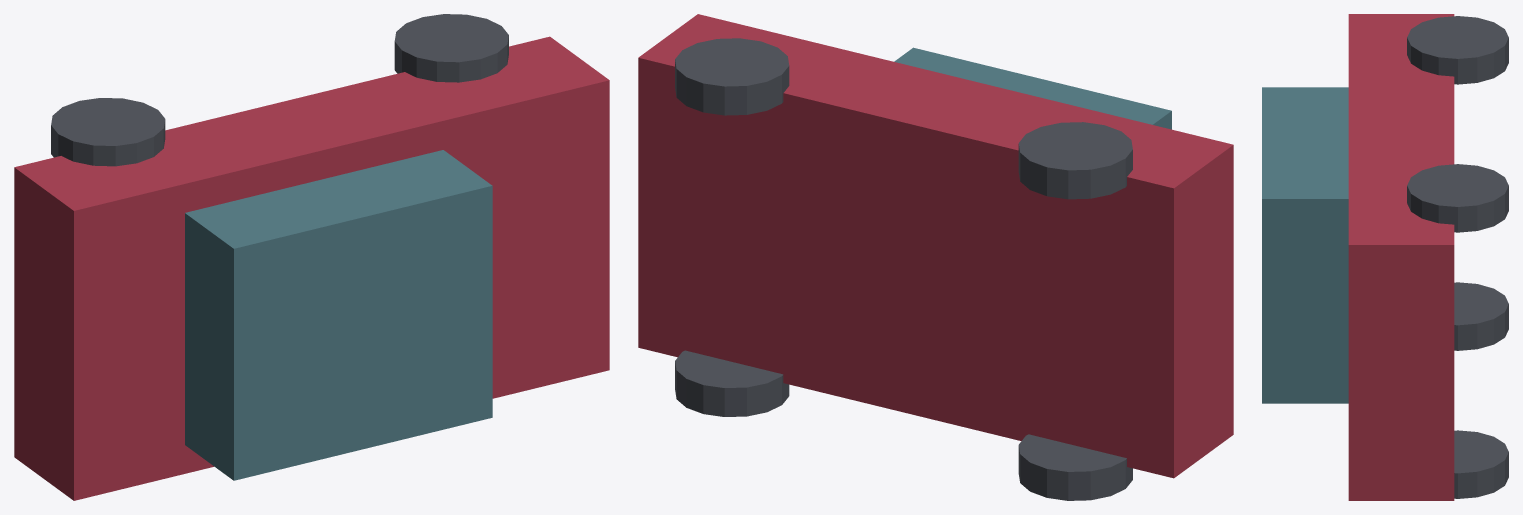
Rendered from car_prop_v01.glb.
3 renders of one model, left to right at view 1: azimuth 30°, elevation 25°; view 2: azimuth 150°, elevation 25°; view 3: azimuth 270°, elevation 25°, orthographic. The views are drawn at different scales.
Parts seen in each view (by area): view 1: box_0, box_1, cylinder_5, cylinder_3; view 2: box_0, cylinder_5, cylinder_3, cylinder_2, cylinder_4, box_1; view 3: box_0, box_1, cylinder_5, cylinder_3, cylinder_2, cylinder_4.
Boxes of the visible parts, bbox=[...] form: box_0: bbox=[14, 36, 609, 500]; box_1: bbox=[185, 150, 492, 480]; cylinder_5: bbox=[394, 14, 508, 82]; cylinder_3: bbox=[51, 98, 165, 166]; box_0: bbox=[638, 14, 1233, 478]; cylinder_5: bbox=[675, 38, 789, 115]; cylinder_3: bbox=[1018, 122, 1132, 199]; cylinder_2: bbox=[1018, 434, 1132, 500]; cylinder_4: bbox=[675, 350, 789, 416]; box_1: bbox=[894, 47, 1171, 129]; box_0: bbox=[1348, 14, 1454, 500]; box_1: bbox=[1262, 87, 1348, 403]; cylinder_5: bbox=[1407, 164, 1508, 232]; cylinder_3: bbox=[1407, 16, 1508, 84]; cylinder_2: bbox=[1454, 282, 1508, 350]; cylinder_4: bbox=[1454, 430, 1508, 498].
Bounding box in the file's own units: 2.9 × 1.71 × 1.31.
